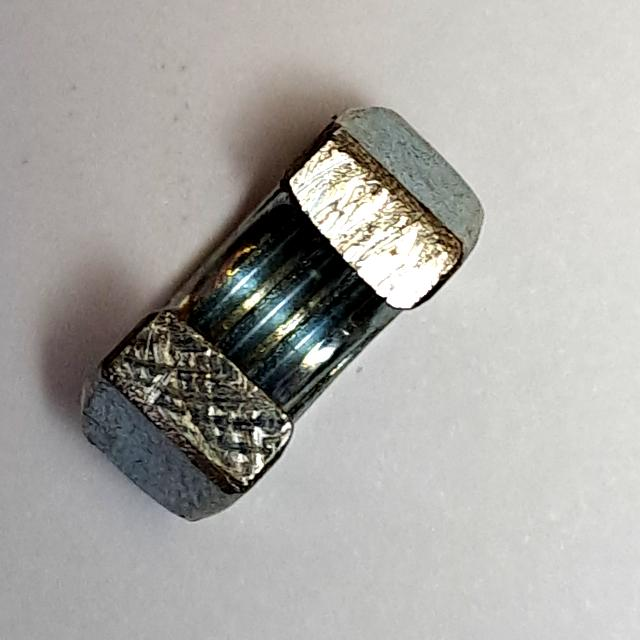Side-Fracture: (66, 87, 494, 542)
